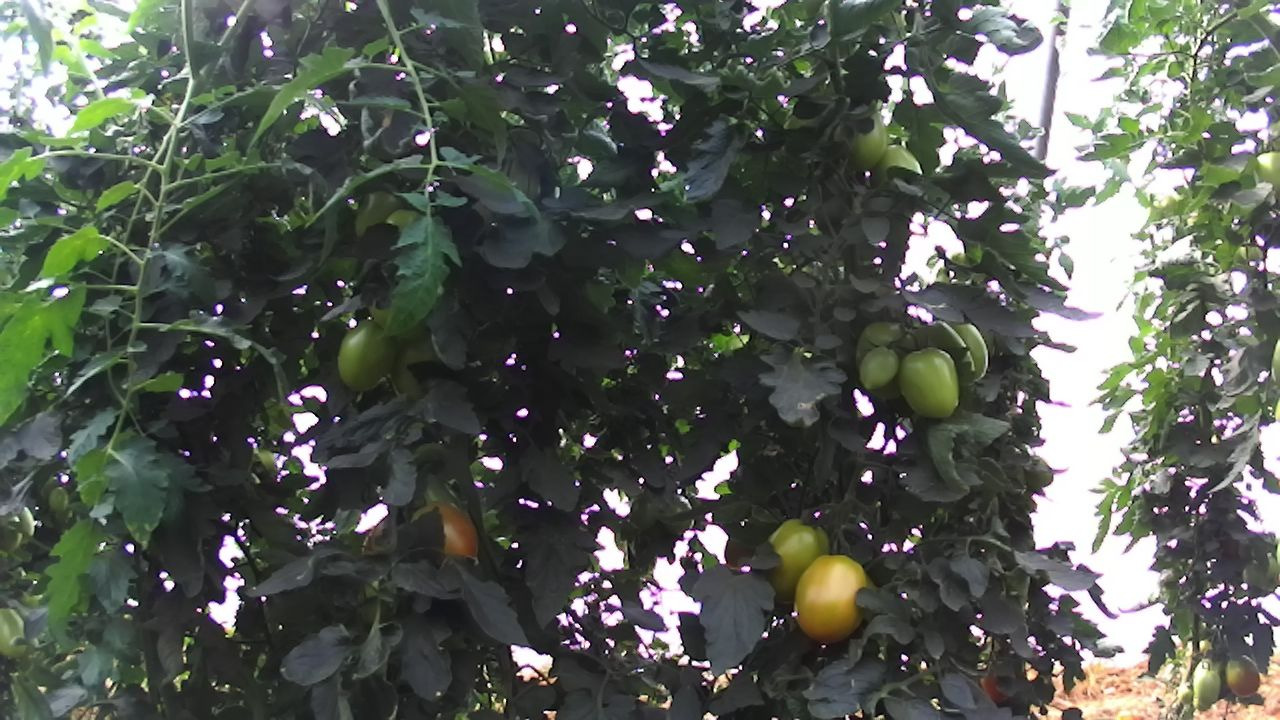tomato: (753, 513, 837, 612), (789, 549, 874, 646), (896, 345, 969, 423), (404, 498, 485, 567), (330, 314, 398, 395), (856, 343, 900, 390), (1222, 651, 1262, 698), (1188, 664, 1224, 714)
